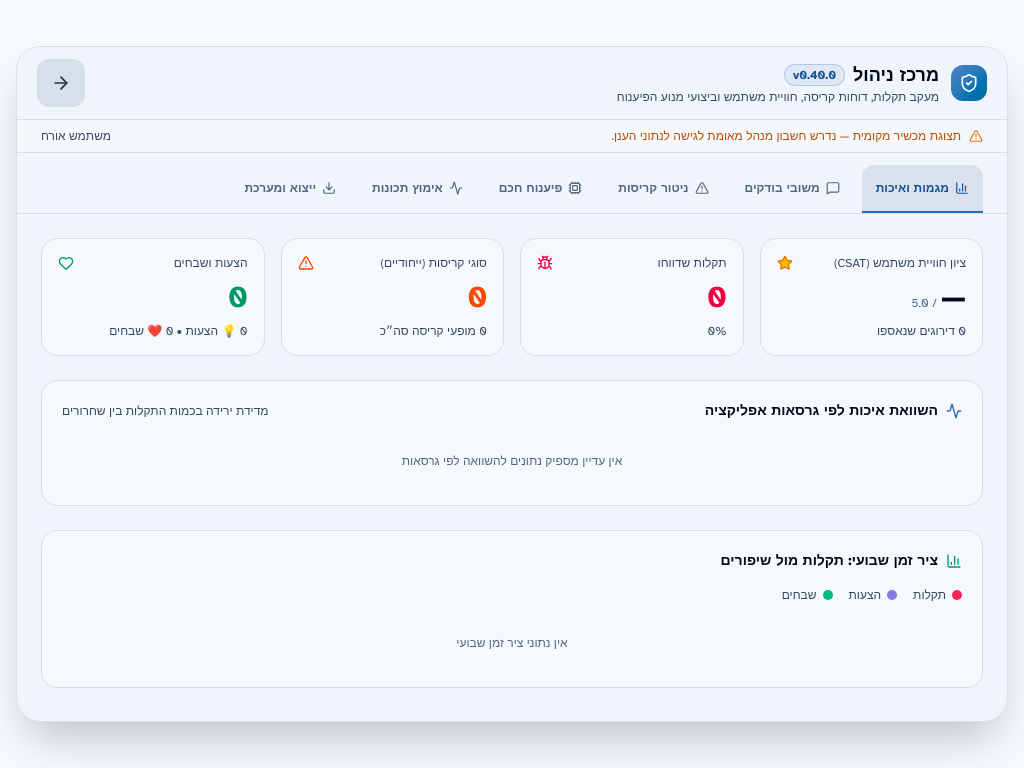
Test: AdminDashboardModal Component Tests › switches between tabs smoothly
# Click on Crashes tab
Click the text "ניטור קריסות".
click(653, 188)  # box [618,180,688,196]
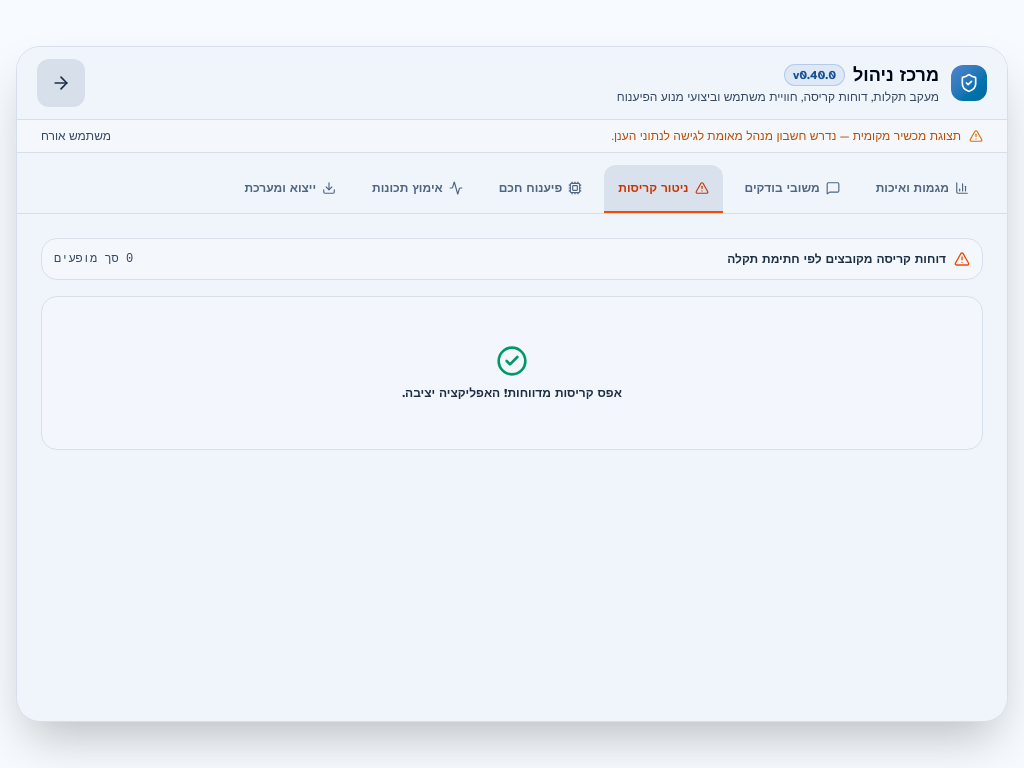
expect the text "דוחות קריסה מקובצים לפי חתימת תקלה" is shown: met, box [727,251,946,267]
# Click on Smart Parser tab
Click the text "פיענוח חכם".
click(530, 188)  # box [499,180,562,196]
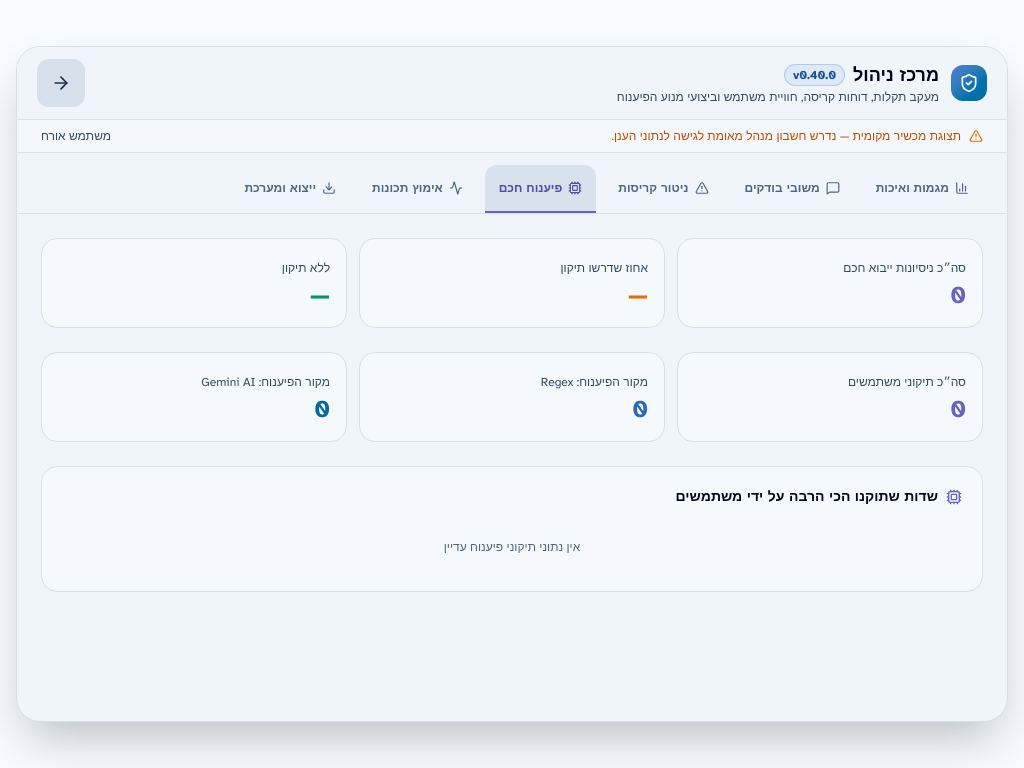
expect the text "שדות שתוקנו הכי הרבה על ידי משתמשים" is shown: met, box [676,487,938,507]
# Click on Export & System tab
Click the text "ייצוא ומערכת".
click(280, 188)  # box [244,180,316,196]
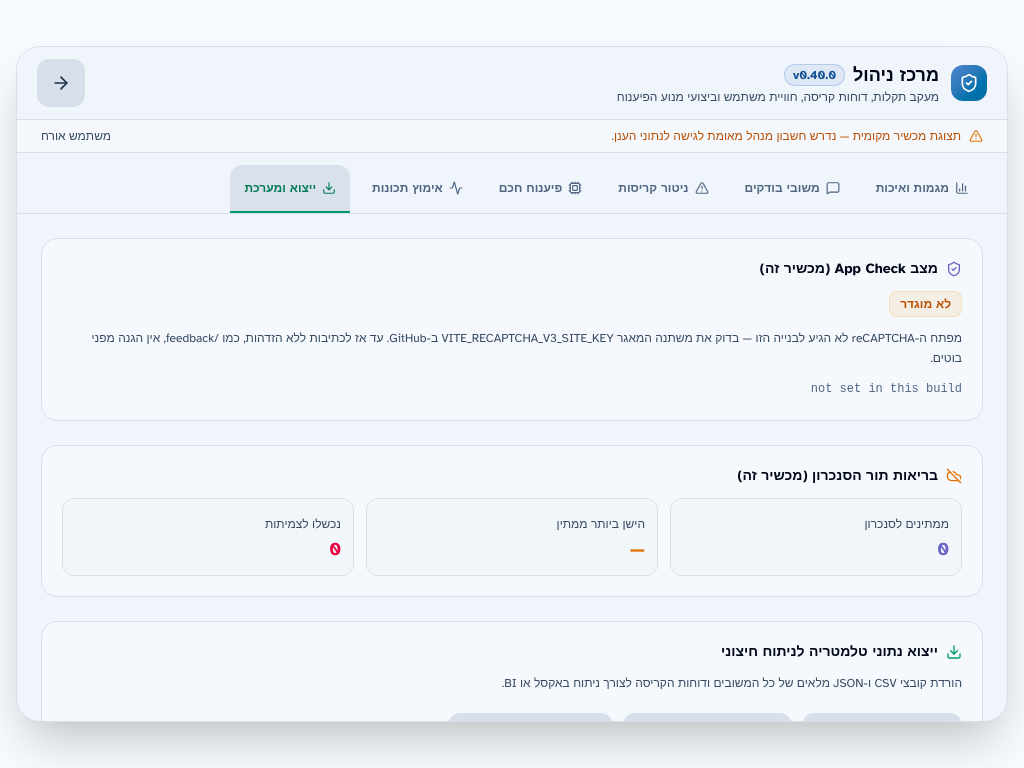
expect the text "ייצוא נתוני טלמטריה לניתוח חיצוני" is shown: met, box [721,642,938,662]
